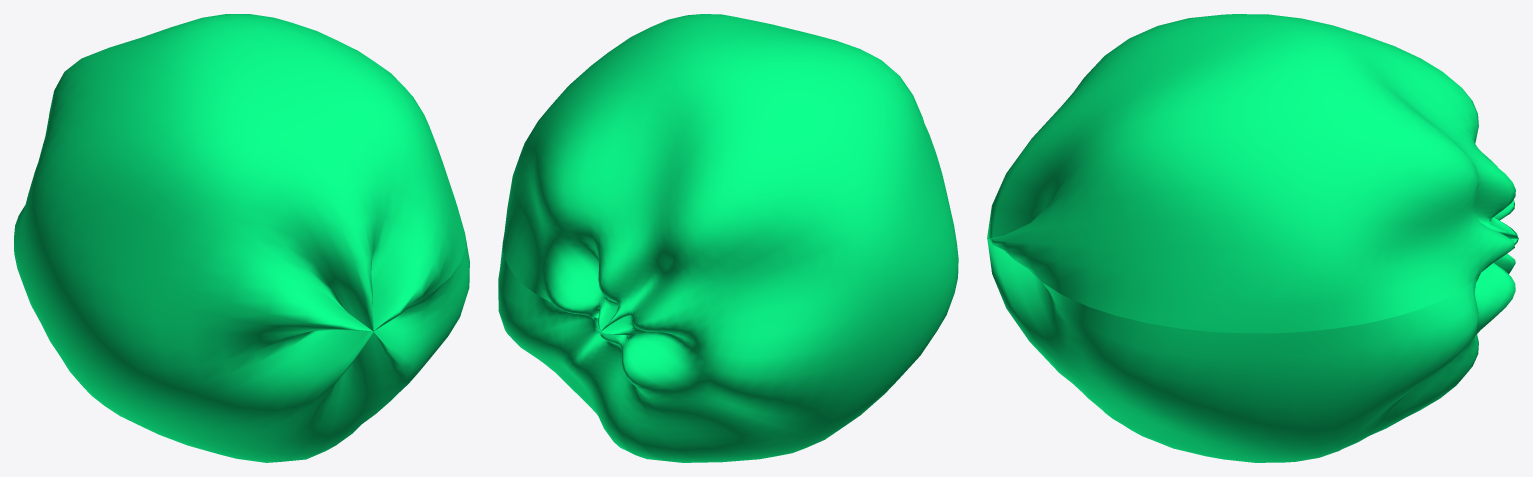
Rendered from holographic_principle_boundary_wireframe_fallback_1764588810291.glb.
3 renders of one model, left to right at view 1: azimuth 30°, elevation 25°; view 2: azimuth 150°, elevation 25°; view 3: azimuth 270°, elevation 25°, orthographic. The views are drawn at different scales.
Parts seen in each view (by area): view 1: MathShape; view 2: MathShape; view 3: MathShape.
Boxes of the visible parts, x1=… form: MathShape: x1=14, y1=14, x2=469, y2=462; MathShape: x1=498, y1=14, x2=958, y2=462; MathShape: x1=987, y1=14, x2=1518, y2=462.
Bounding box in the file's own units: 3.22 × 3.22 × 3.81.
